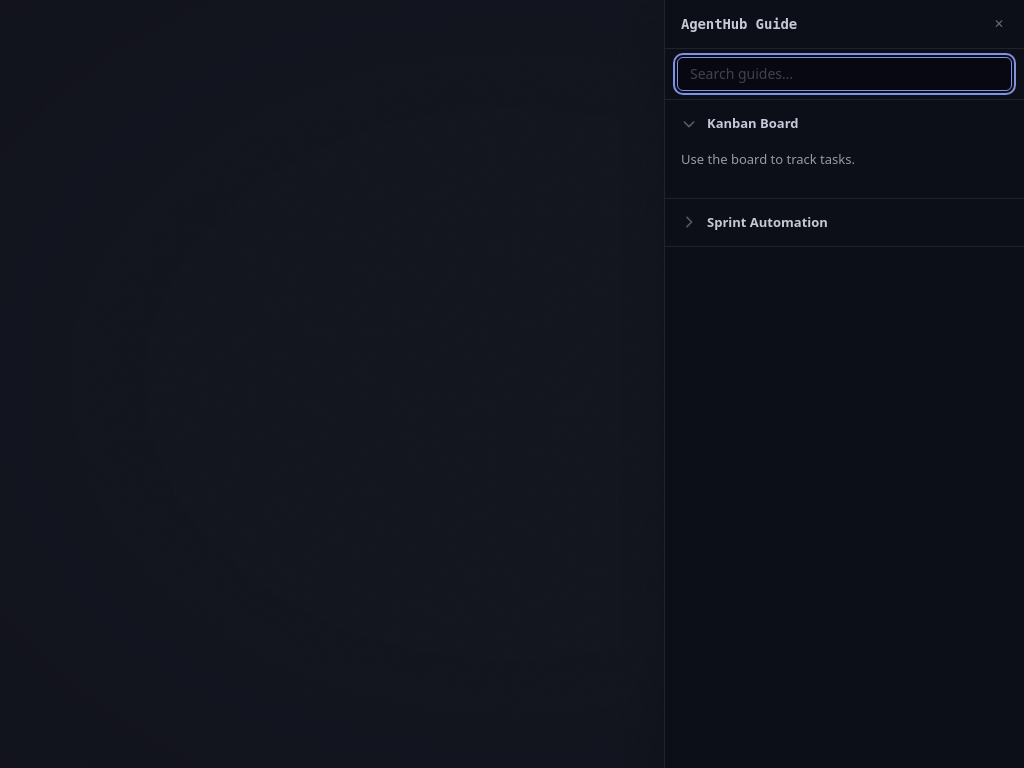
Test: HowToPanel › search auto-expands sections whose body matches
Expected: the text "Sprint Automation" is shown, [707,213,828,232]
In the field with placeholder "Search guides…": (844, 74) [677,57,1012,91], type "sprint flow"
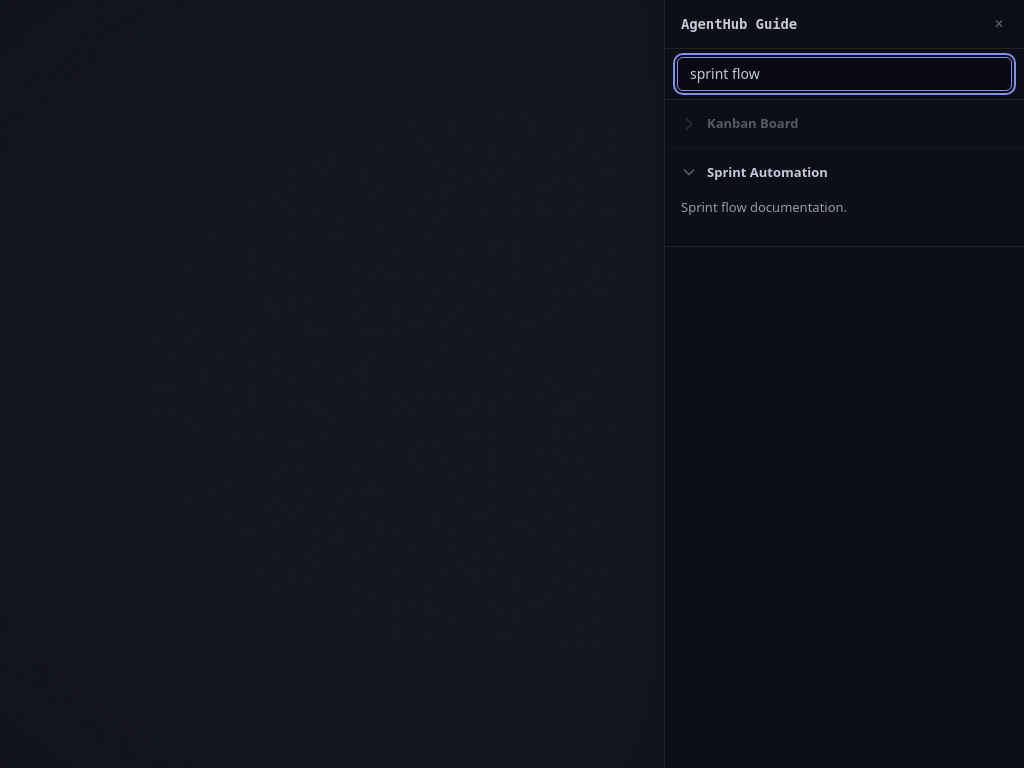
Now the text "Sprint flow documentation." is shown, box [681,198,847,216]
